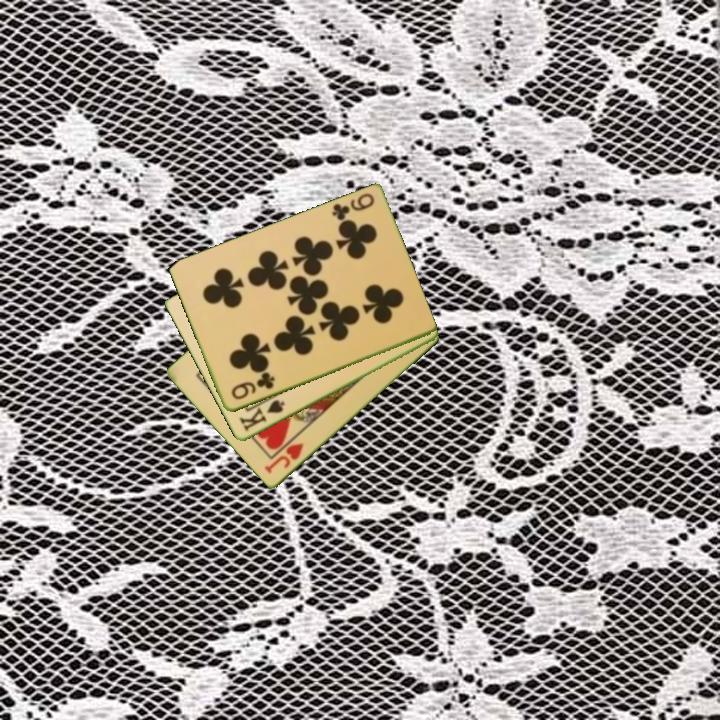9c: (227, 370, 278, 403), (328, 190, 377, 224)
Jh: (260, 439, 306, 477)
Ks: (236, 396, 288, 435)
